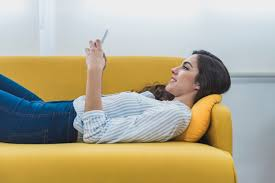Humano: (1, 37, 233, 154)
